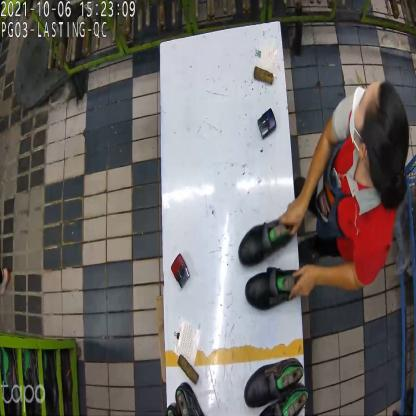shoes: (240, 216, 302, 310), (240, 354, 312, 416)
stamp: (258, 107, 278, 141), (172, 252, 190, 286)
